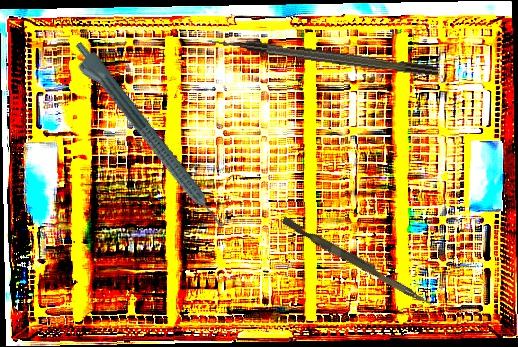Handpiece: (64, 38, 229, 238)
Hook Surgical: (205, 33, 439, 79)
Pusher: (279, 216, 437, 308)
